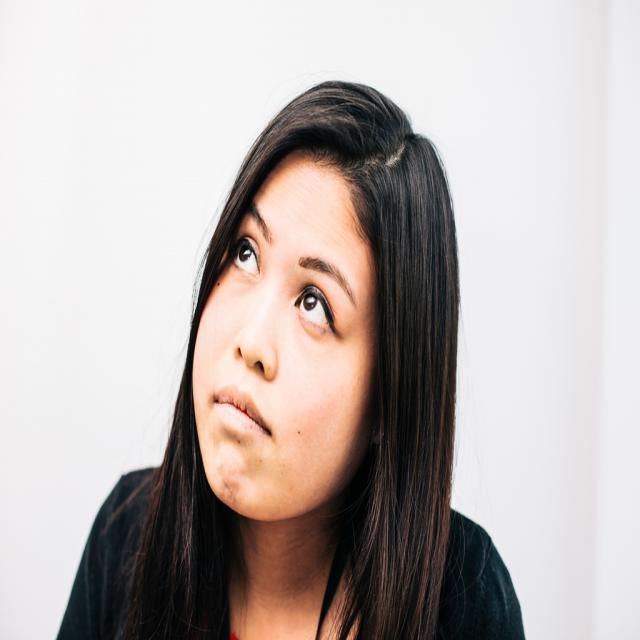closed-mouth: (212, 381, 273, 435)
